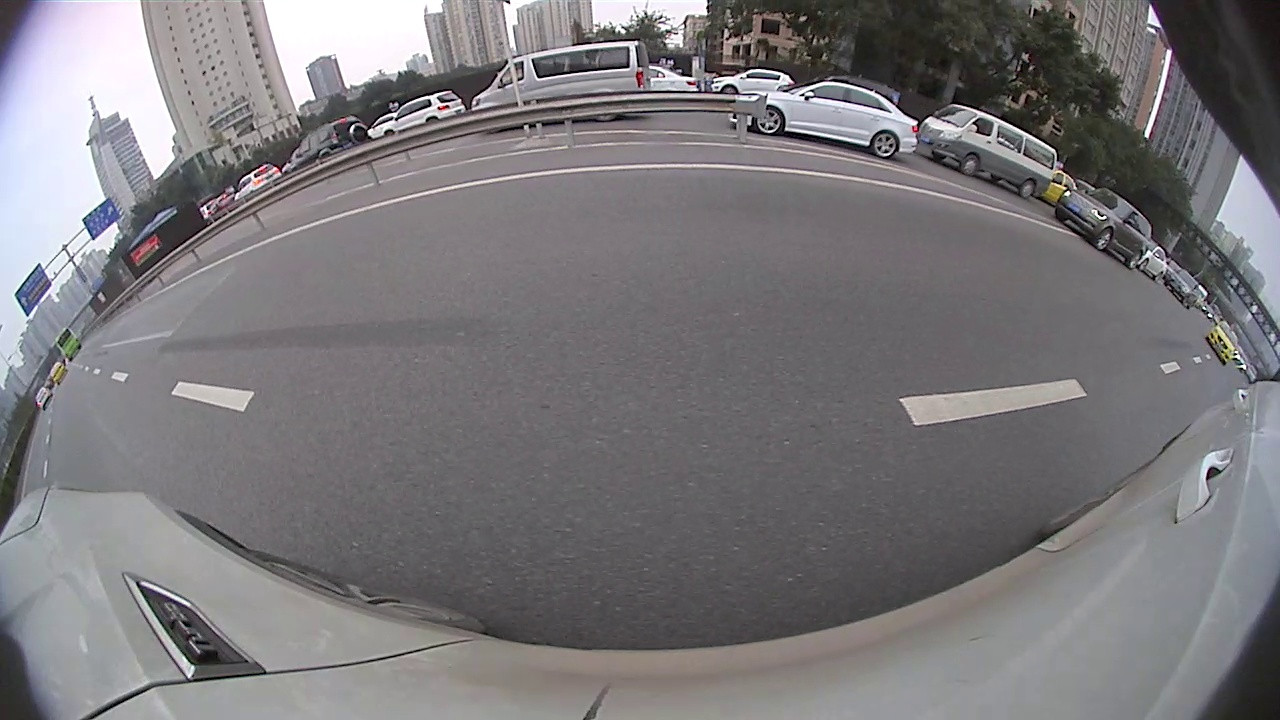bus: (1015, 164, 1247, 248), (855, 142, 979, 198)
car: (2, 222, 330, 491), (1100, 208, 1277, 380), (931, 190, 1142, 303), (720, 127, 891, 229), (888, 177, 963, 224), (506, 155, 580, 201), (594, 151, 648, 193)
front: (242, 263, 314, 343), (937, 212, 962, 240), (723, 172, 741, 208)
rear: (1044, 249, 1079, 293), (765, 176, 790, 222), (1211, 343, 1242, 380), (908, 199, 924, 221)
rider: (659, 145, 686, 197)
